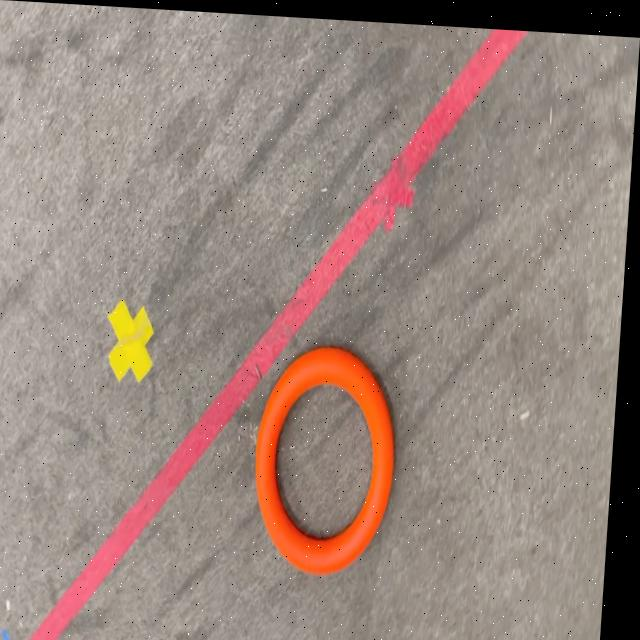note: (256, 339, 406, 575)
